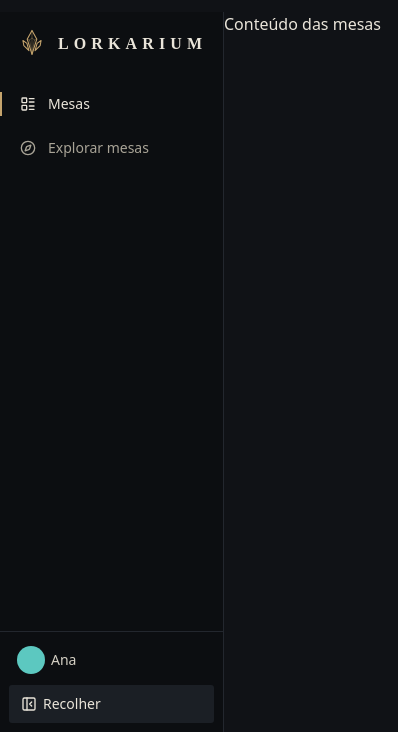
AppShell › "Recolher menu" collapses the rail, turns into "Expandir menu" and stores collapsed
Click the button with aria-label "Recolher menu".
click(112, 704)  # box [8,684,215,724]
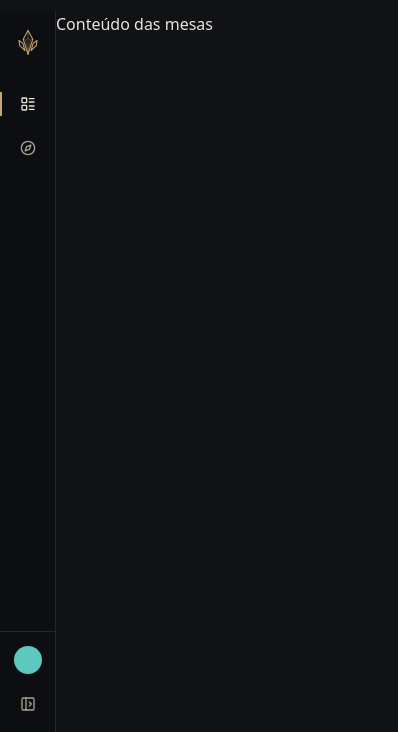
Expected: the button named "Expandir menu" is collapsed, [8,684,47,724]
